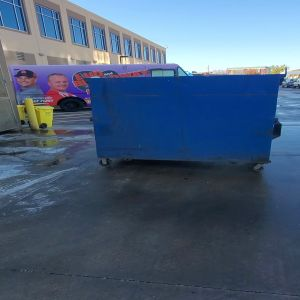Dumpster: (84, 76, 283, 175)
Person: (15, 69, 40, 93), (47, 72, 72, 96)
